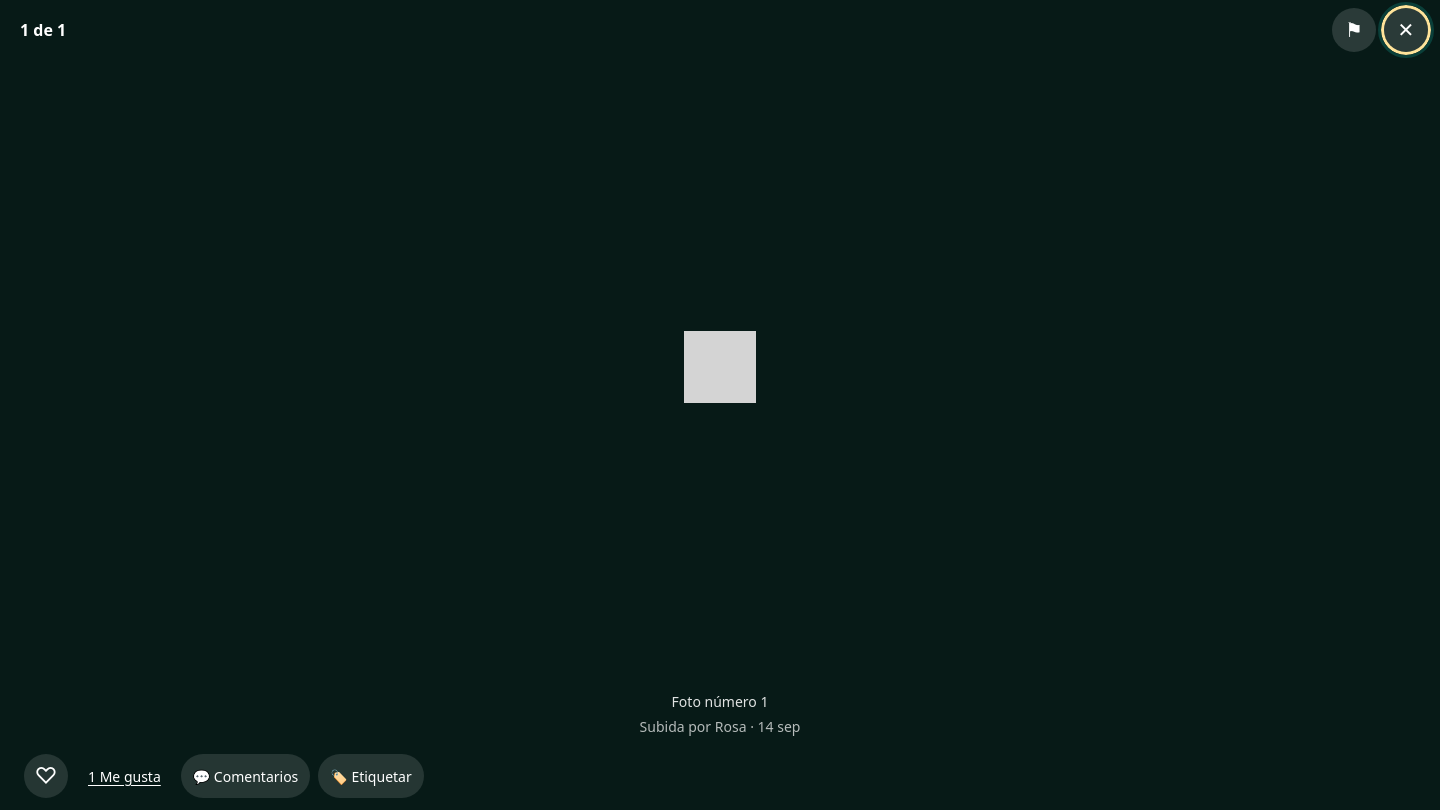
Test: hearts and likers › toggles the heart and lists likers by name only
The width and height of the screenshot is (1440, 810).
Click the button named "Me gusta". click: coordinates (46, 776)
box: 24,754 -> 68,798
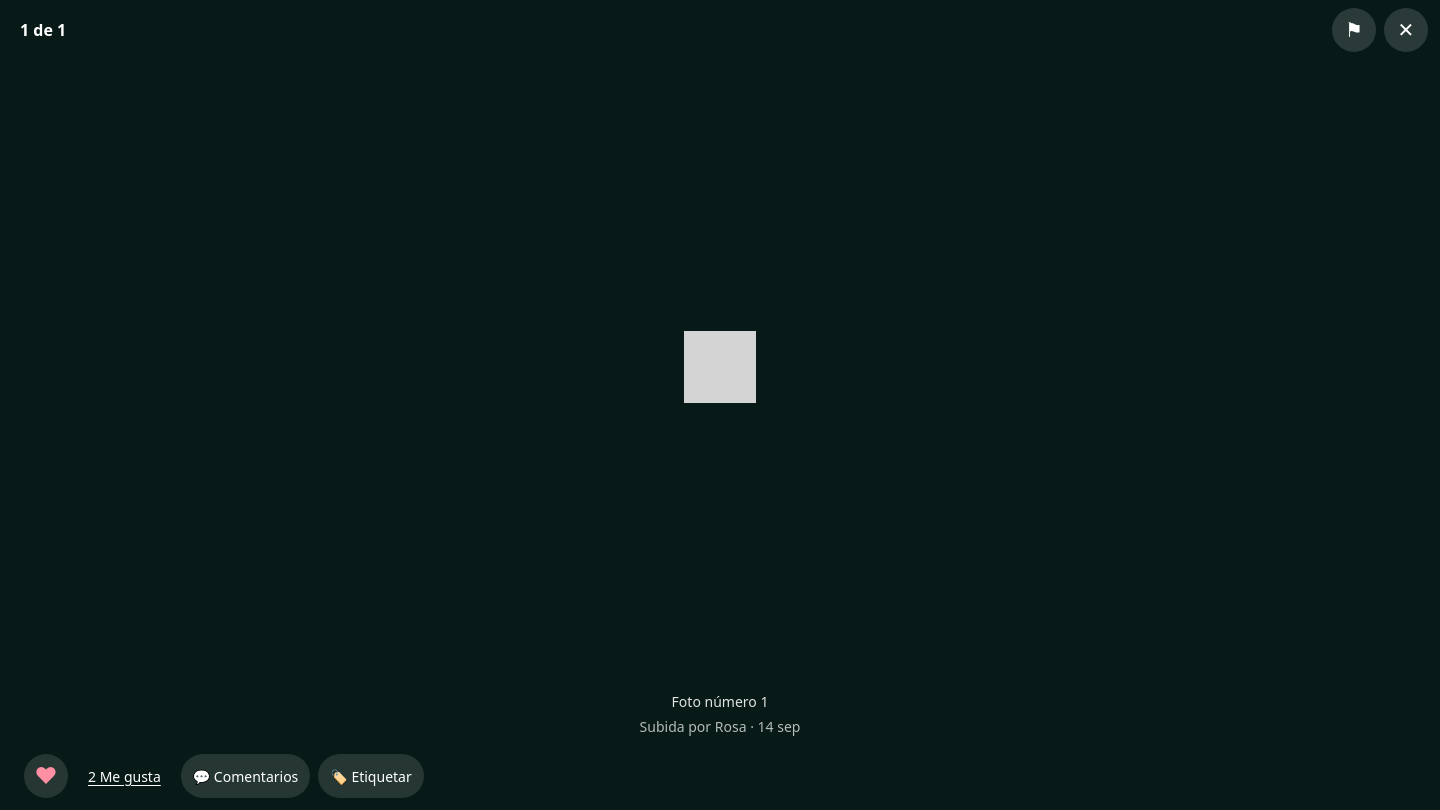
Now the button "2 Me gusta" is shown
Click the button "2 Me gusta". click: coordinates (124, 776)
box: 76,754 -> 173,798
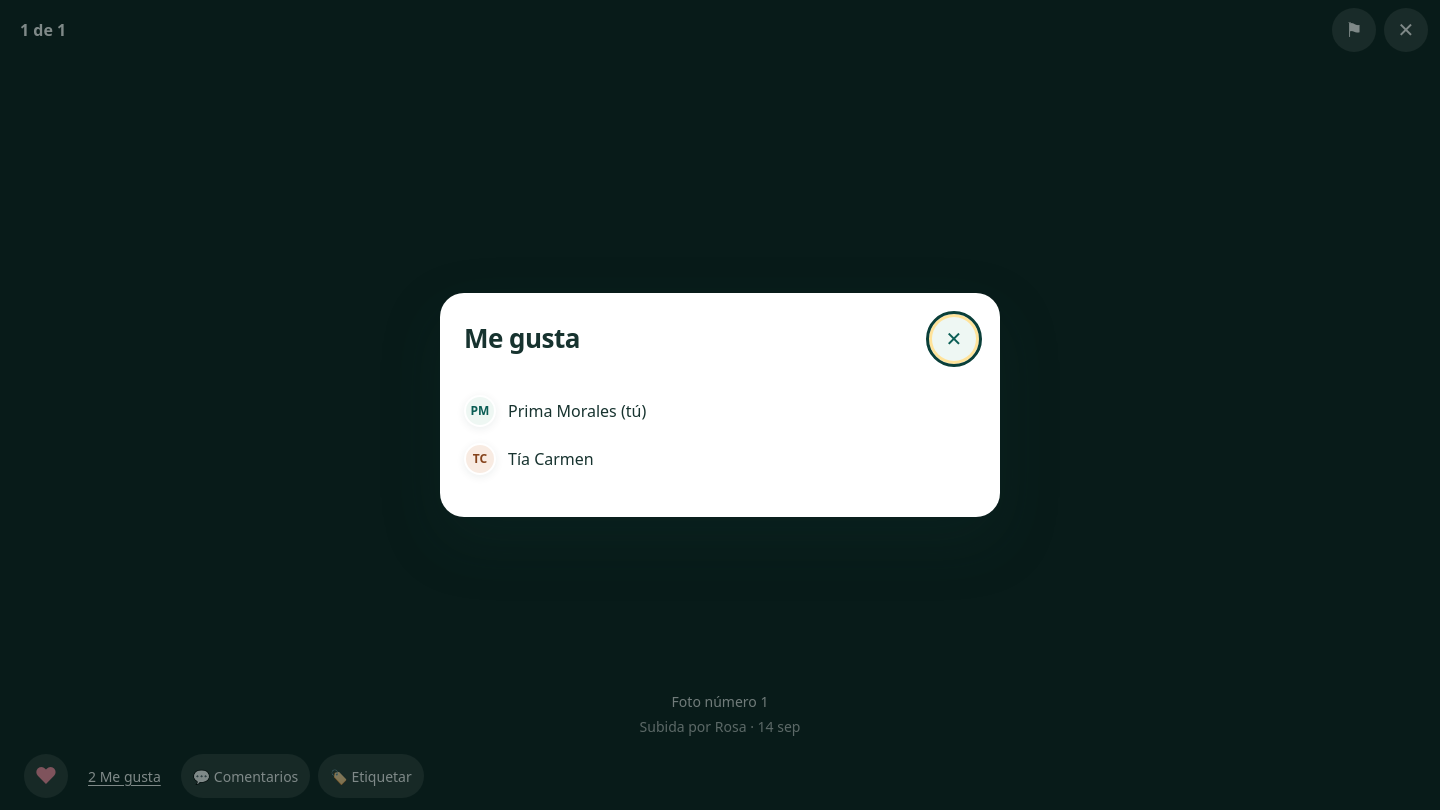
Now the text "Prima Morales (tú)" is shown, box 508,399 -> 646,423
Now the text "Tía Carmen" is shown, box 508,447 -> 594,471
